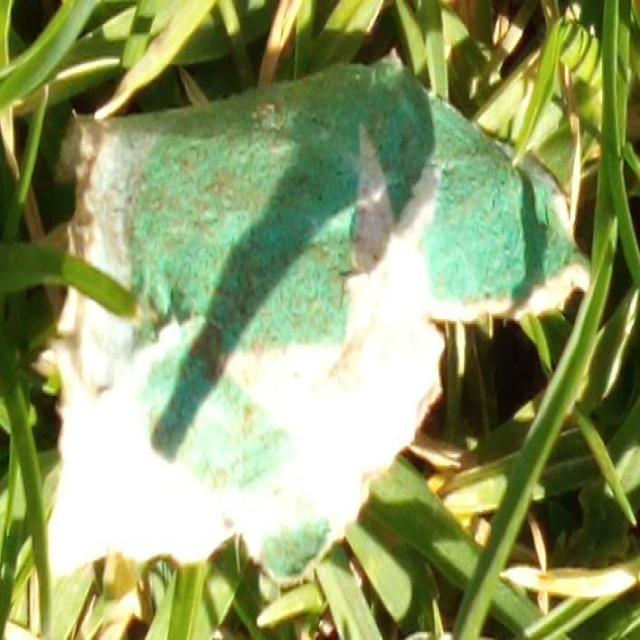litter: (53, 50, 585, 585)
